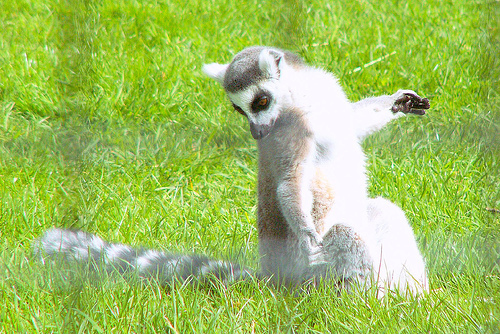cat: (18, 32, 455, 315)
